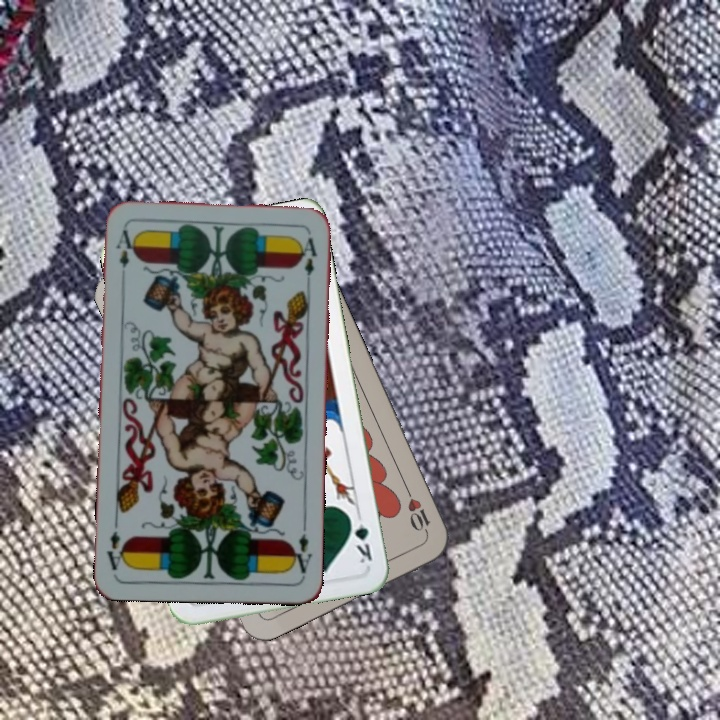EA: (287, 529, 315, 579), (111, 226, 137, 271)
GK: (345, 510, 375, 566)
H10: (401, 484, 433, 541)
